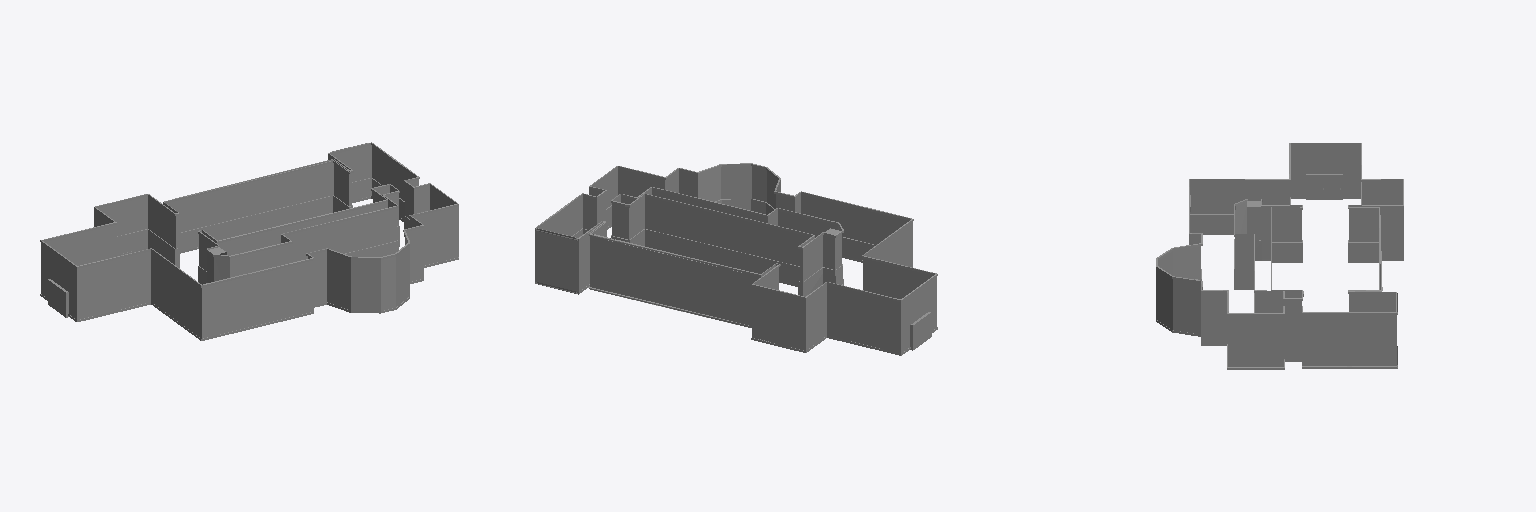
Rendered from walls_v2.obj.
3 renders of one model, left to right at view 1: azimuth 30°, elevation 25°; view 2: azimuth 150°, elevation 25°; view 3: azimuth 270°, elevation 25°, orthographic.
Visible parts, largest first — view 1: Cube.044_Cube.054; view 2: Cube.044_Cube.054; view 3: Cube.044_Cube.054.
Boxes of the visible parts, box(x1,y1,x2,y2) form: Cube.044_Cube.054: box(40, 142, 458, 340); Cube.044_Cube.054: box(535, 163, 937, 355); Cube.044_Cube.054: box(1156, 143, 1403, 369).
Bounding box in the file's own units: 174 × 26.83 × 106.